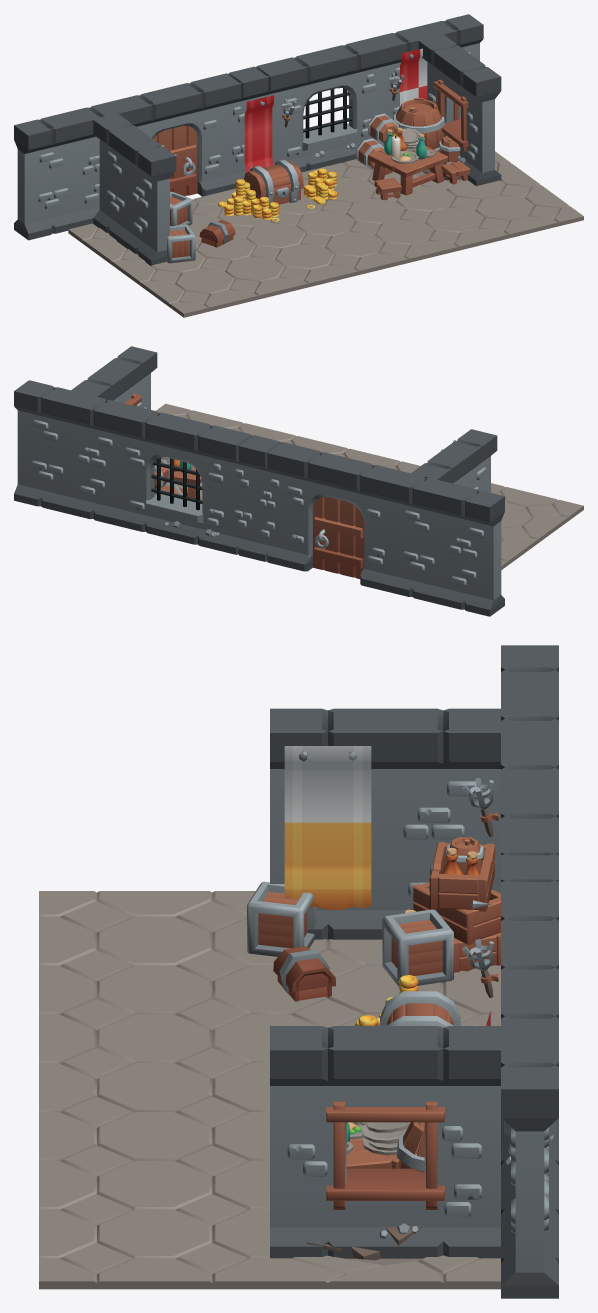
Rendered from vault.glb.
3 renders of one model, top to bottom at view 1: azimuth 30°, elevation 25°; view 2: azimuth 150°, elevation 25°; view 3: azimuth 270°, elevation 25°, orthographic. The views are drawn at different scales.
Visible parts, largest first — view 1: static, door, chest_lid; view 2: static, door; view 3: static, chest_lid.
Boxes of the visible parts, <box> form: static: <box>14,14,583,317</box>; door: <box>153,126,197,196</box>; chest_lid: <box>244,159,303,198</box>; static: <box>14,346,583,616</box>; door: <box>313,497,364,578</box>; static: <box>39,645,558,1298</box>; chest_lid: <box>378,991,460,1027</box>.
Size of the model in its own units: 18.2 by 4.1 by 9.
1 material, 1 textured.
